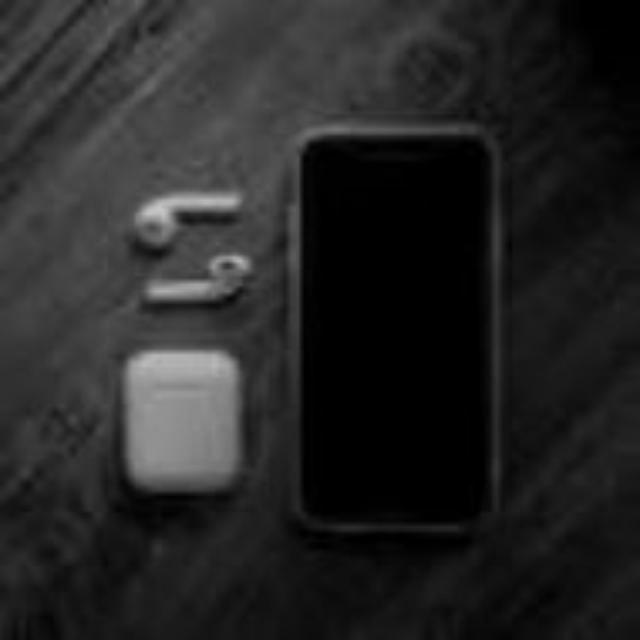fake: (248, 112, 549, 570)
